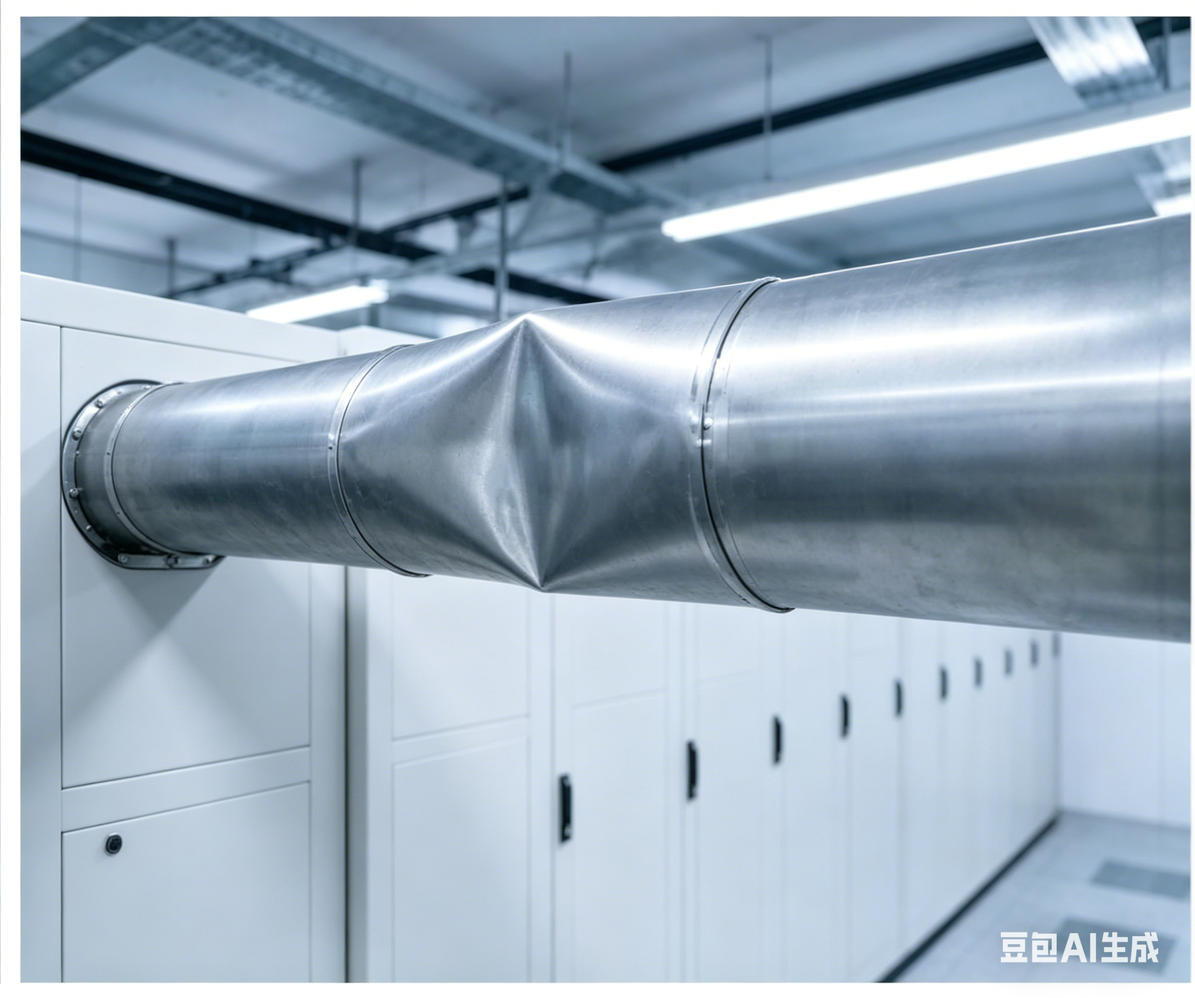Leakage: (413, 297, 644, 597)
